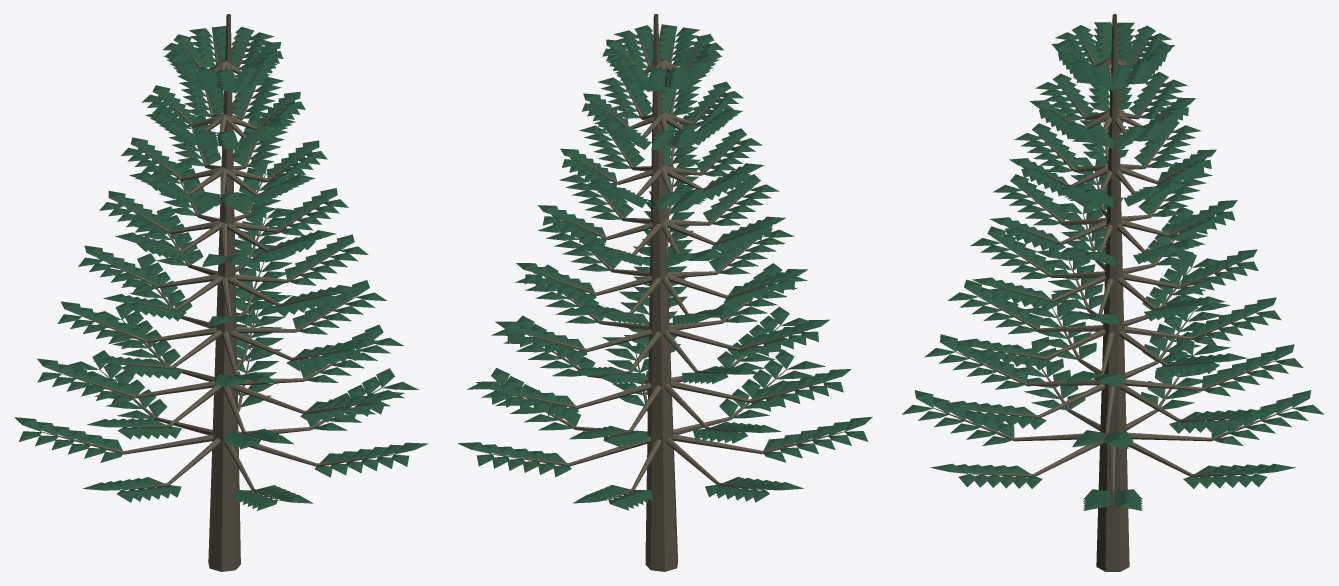
The model's file is SM_PineTree.fbx.
The picture shows the model from 3 angles, left to right: view 1: azimuth 30°, elevation 25°; view 2: azimuth 150°, elevation 25°; view 3: azimuth 270°, elevation 25°; orthographic projection.
Parts seen in each view (by area): view 1: SM_PineTree; view 2: SM_PineTree; view 3: SM_PineTree.
Boxes of the visible parts, bbox=[...] form: SM_PineTree: bbox=[14, 14, 428, 571]; SM_PineTree: bbox=[457, 14, 872, 571]; SM_PineTree: bbox=[902, 14, 1323, 571].
Bounding box in the file's own units: 460 × 680 × 472.
